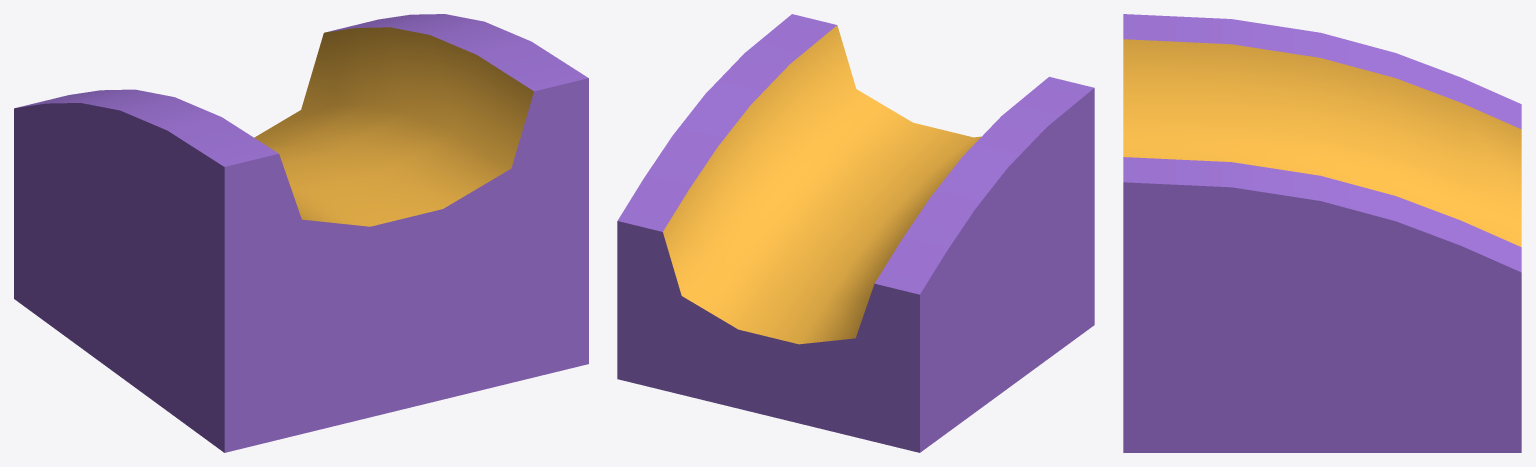
Rendered from ramp-end-solid-b.glb.
The picture shows the model from 3 angles, left to right: view 1: azimuth 30°, elevation 25°; view 2: azimuth 150°, elevation 25°; view 3: azimuth 270°, elevation 25°; orthographic projection. The views are drawn at different scales.
Visible parts, largest first — view 1: ramp-end-solid-b; view 2: ramp-end-solid-b; view 3: ramp-end-solid-b.
Boxes of the visible parts, box(x1,y1,x2,y2) form: ramp-end-solid-b: box(14, 14, 588, 452); ramp-end-solid-b: box(617, 14, 1094, 452); ramp-end-solid-b: box(1123, 14, 1521, 452).
Size of the model in its own units: 1 by 0.75 by 1.
1 material, 1 textured.
